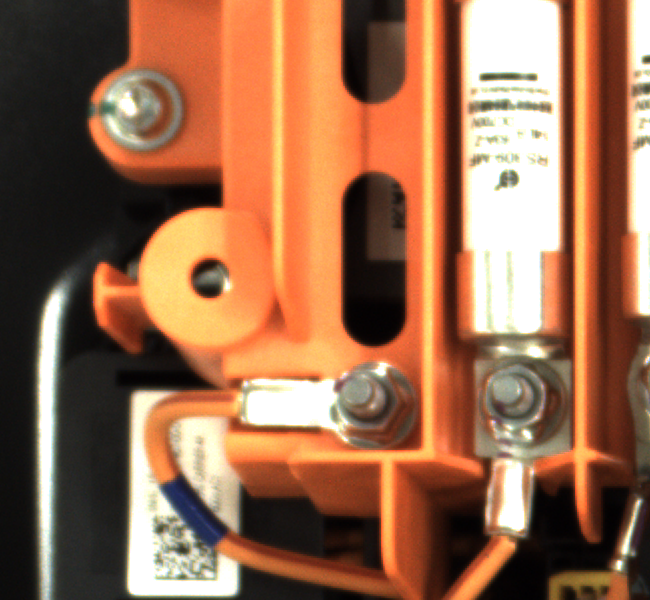screw_m: (88, 63, 201, 154)
screw_s: (472, 355, 577, 451), (328, 361, 406, 444)
